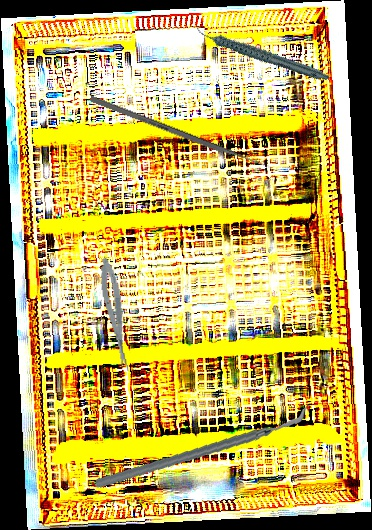Chopper: (94, 382, 311, 512)
Handpiece: (194, 0, 330, 107)
Micro Scissor: (96, 256, 133, 374)
Pusher: (89, 95, 273, 172)
